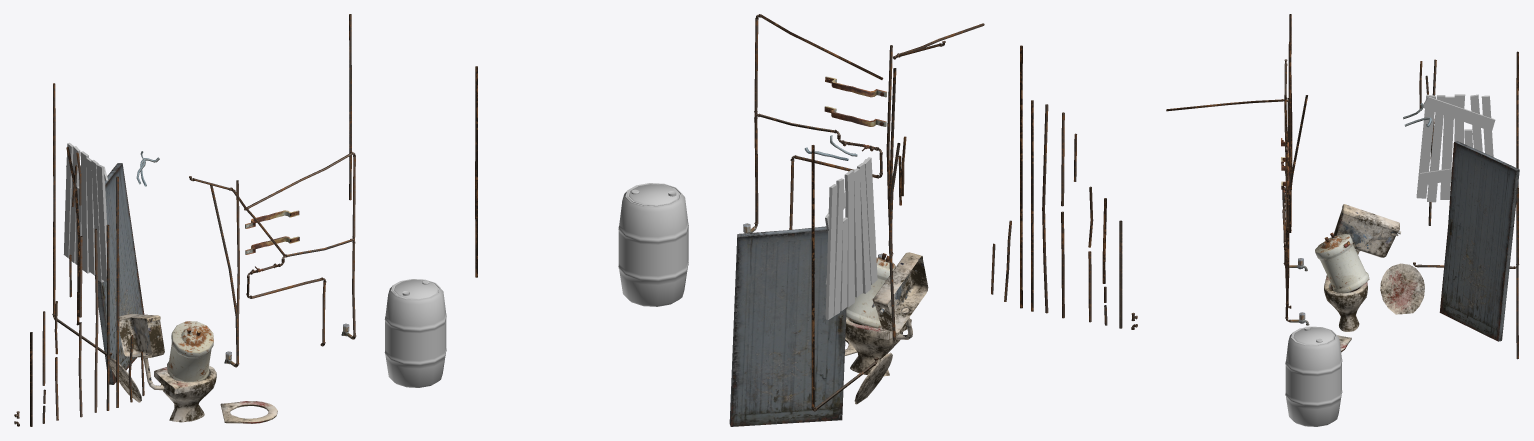
File: Toilet_H3.fbx
3 views of the same model, side by side, from view 1: azimuth 30°, elevation 25°; view 2: azimuth 150°, elevation 25°; view 3: azimuth 270°, elevation 25° (orthographic). The views are drawn at different scales.
Visible parts, largest first — view 1: BigWaterBarrel_T01, DamagedDoor, S_WindowPlankSet_T05, GeyserSet, WaterFlush, Toilet, WaterPipe_04 (×2), WaterPipe_06 (×2), WaterPipe_03 (×2), WaterPipe_01 (×2), ToiletSeat, GeyserStand (+1 smaller); view 2: DamagedDoor, BigWaterBarrel_T01, S_WindowPlankSet_T05, WaterFlush, WaterPipe_04 (×2), Toilet, GeyserSet, WaterPipe_06 (×2), GeyserStand, WaterPipe_03, SeatCover, WaterPipe_01; view 3: DamagedDoor, BigWaterBarrel_T01, S_WindowPlankSet_T05, WaterFlush, GeyserSet, SeatCover, Toilet, WaterPipe_04 (×2), WaterPipe_06, WaterPipe_01.
Part boxes in pixels (x1=…): BigWaterBarrel_T01: x1=384, y1=279, x2=446, y2=387; DamagedDoor: x1=94, y1=163, x2=144, y2=384; S_WindowPlankSet_T05: x1=63, y1=142, x2=107, y2=282; GeyserSet: x1=167, y1=321, x2=213, y2=382; WaterFlush: x1=116, y1=313, x2=164, y2=390; Toilet: x1=154, y1=365, x2=216, y2=422; WaterPipe_04 (×2): x1=53, y1=83, x2=119, y2=407; WaterPipe_06 (×2): x1=106, y1=14, x2=351, y2=410; WaterPipe_03 (×2): x1=94, y1=180, x2=239, y2=412; WaterPipe_01 (×2): x1=66, y1=147, x2=238, y2=363; ToiletSeat: x1=220, y1=401, x2=277, y2=423; GeyserStand: x1=245, y1=210, x2=299, y2=254; DamagedDoor: x1=729, y1=226, x2=846, y2=426; BigWaterBarrel_T01: x1=618, y1=183, x2=688, y2=306; S_WindowPlankSet_T05: x1=825, y1=157, x2=877, y2=319; WaterFlush: x1=872, y1=252, x2=928, y2=339; WaterPipe_04 (×2): x1=811, y1=45, x2=1022, y2=407; Toilet: x1=845, y1=317, x2=911, y2=376; GeyserSet: x1=846, y1=253, x2=895, y2=328; WaterPipe_06 (×2): x1=475, y1=66, x2=1033, y2=311; GeyserStand: x1=824, y1=76, x2=886, y2=126; WaterPipe_03: x1=1042, y1=104, x2=1048, y2=313; SeatCover: x1=854, y1=352, x2=892, y2=404; WaterPipe_01: x1=888, y1=143, x2=900, y2=340; DamagedDoor: x1=1439, y1=141, x2=1519, y2=341; BigWaterBarrel_T01: x1=1285, y1=326, x2=1342, y2=426; S_WindowPlankSet_T05: x1=1416, y1=94, x2=1495, y2=202; WaterFlush: x1=1334, y1=204, x2=1399, y2=257; GeyserSet: x1=1315, y1=232, x2=1369, y2=292; SeatCover: x1=1380, y1=263, x2=1424, y2=314; Toilet: x1=1324, y1=275, x2=1367, y2=331; WaterPipe_04 (×2): x1=1289, y1=14, x2=1518, y2=263; WaterPipe_06: x1=1516, y1=187, x2=1518, y2=359; WaterPipe_01: x1=1284, y1=95, x2=1307, y2=263.
Bounding box in the file's own units: 5.69 × 3.4 × 4.11.
